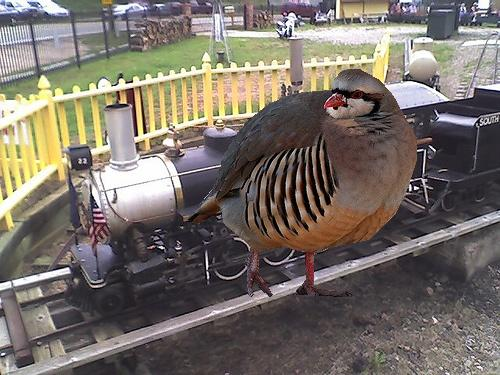tampered: (188, 70, 417, 297)
